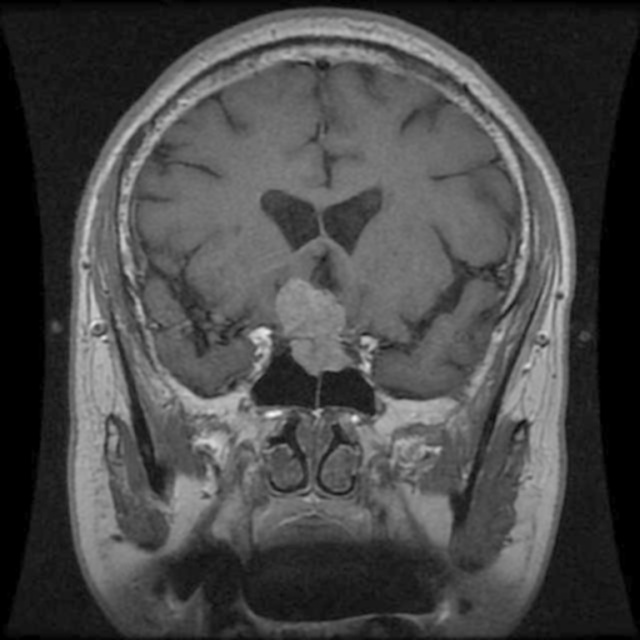no tumor: (286, 286, 368, 374)
